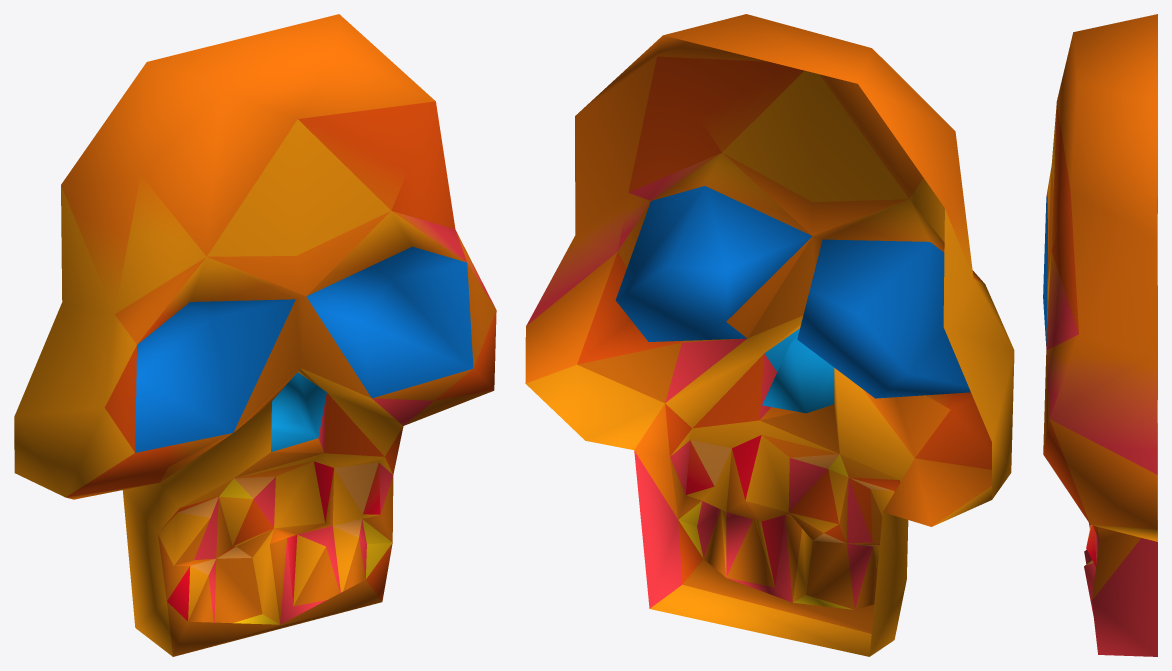
File: HWN20_SkullDeco_DDLM_01.glb
3 renders of one model, left to right at view 1: azimuth 30°, elevation 25°; view 2: azimuth 150°, elevation 25°; view 3: azimuth 270°, elevation 25°, orthographic. The views are drawn at different scales.
Parts seen in each view (by area): view 1: HWN20_SkullDeco_DDLM_01; view 2: HWN20_SkullDeco_DDLM_01; view 3: HWN20_SkullDeco_DDLM_01.
Boxes of the visible parts, x1,y1,x2,y2 form: HWN20_SkullDeco_DDLM_01: (14,14,496,656); HWN20_SkullDeco_DDLM_01: (525,14,1014,656); HWN20_SkullDeco_DDLM_01: (1043,14,1157,656).
Size of what is drawn, in the model's own units: 0.2105 by 0.2498 by 0.0473.
1 material, 1 textured.
